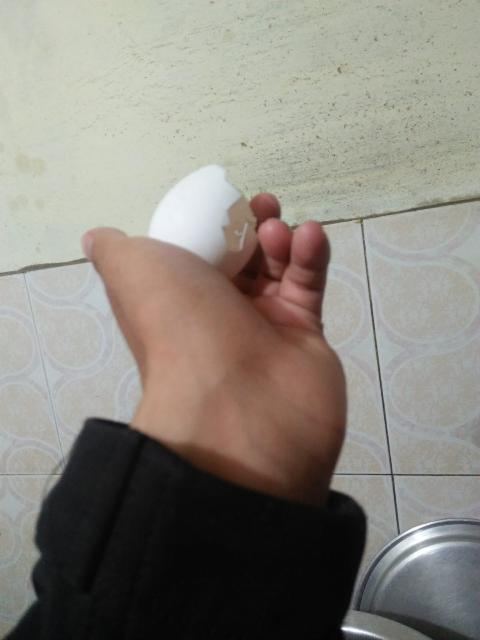Roto: (147, 162, 260, 279)
